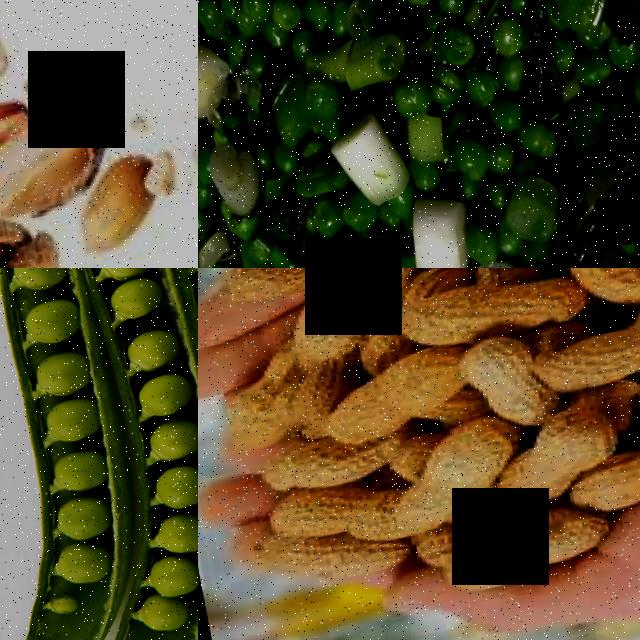peanuts: (430, 509, 610, 597), (391, 273, 576, 358), (317, 345, 466, 447), (406, 419, 520, 509), (258, 475, 390, 547), (529, 323, 640, 405), (452, 337, 542, 426), (280, 287, 373, 368), (570, 442, 640, 523), (538, 268, 640, 295)
peas: (57, 268, 198, 640), (0, 268, 108, 607), (442, 85, 550, 193), (293, 194, 423, 268), (217, 0, 335, 70)
